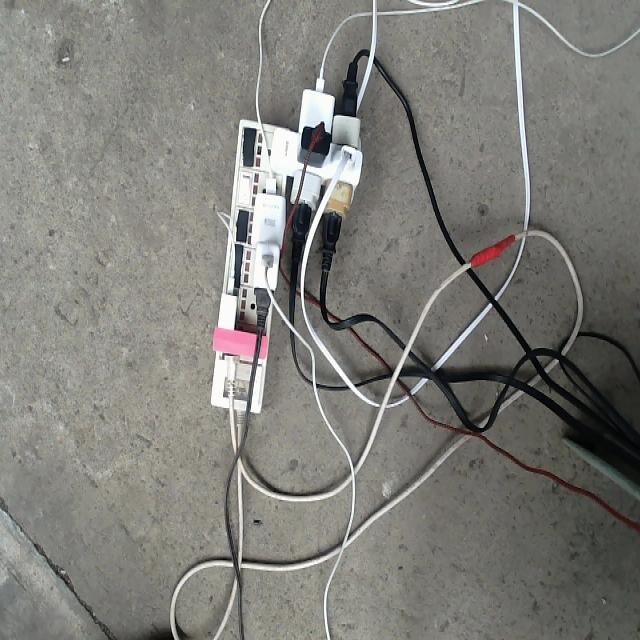-: (207, 62, 361, 406)
